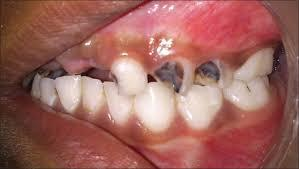Caries: (150, 59, 191, 97), (197, 62, 226, 90), (107, 72, 125, 89)
